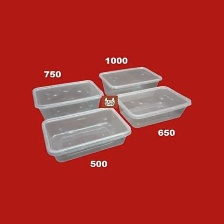plastic_box: (36, 102, 137, 167), (113, 81, 196, 131), (26, 74, 108, 124), (93, 61, 167, 101)
